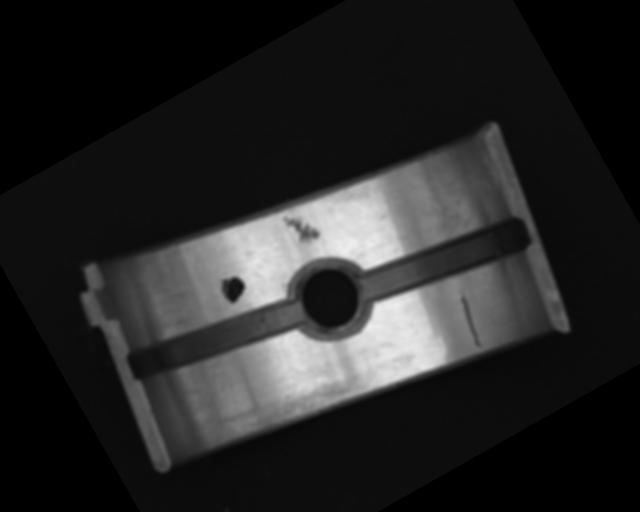blot: (216, 270, 251, 306)
bruise: (280, 204, 321, 250)
gap: (123, 270, 307, 409), (354, 195, 532, 329)
hole: (277, 245, 385, 353)
nick: (446, 286, 493, 352)
scratch: (210, 344, 378, 469)
